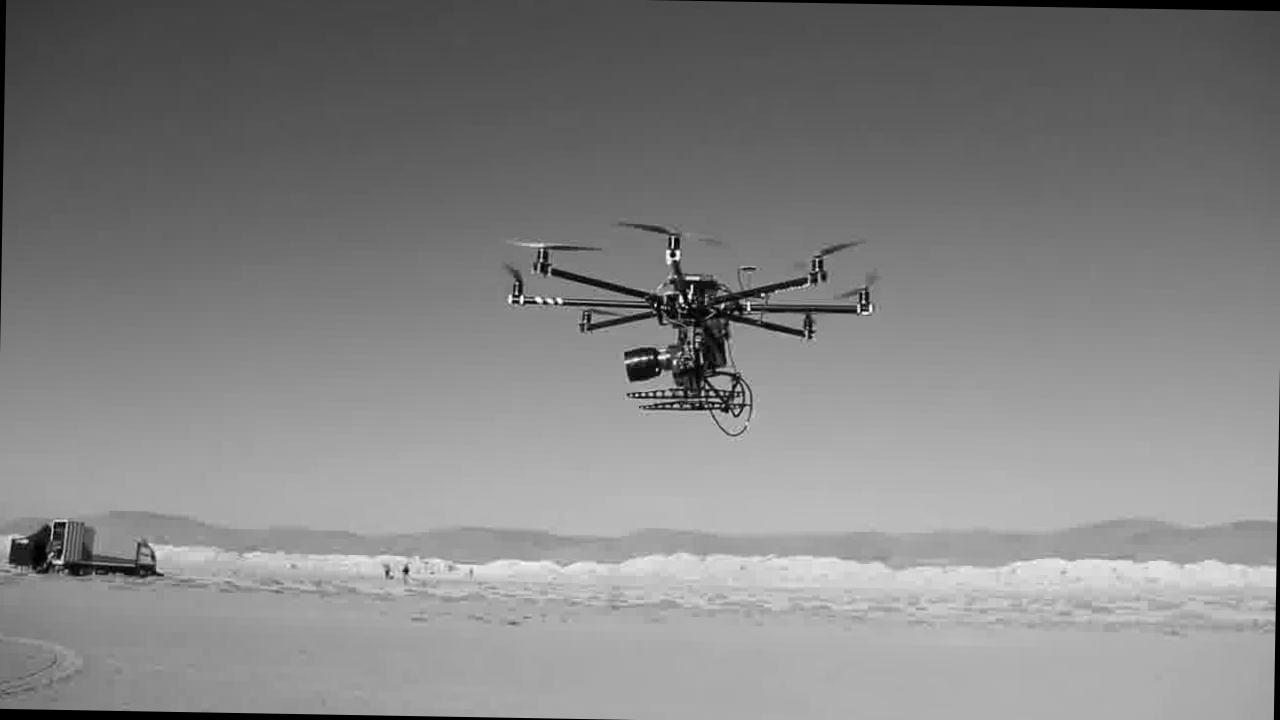drone: (482, 210, 886, 426)
